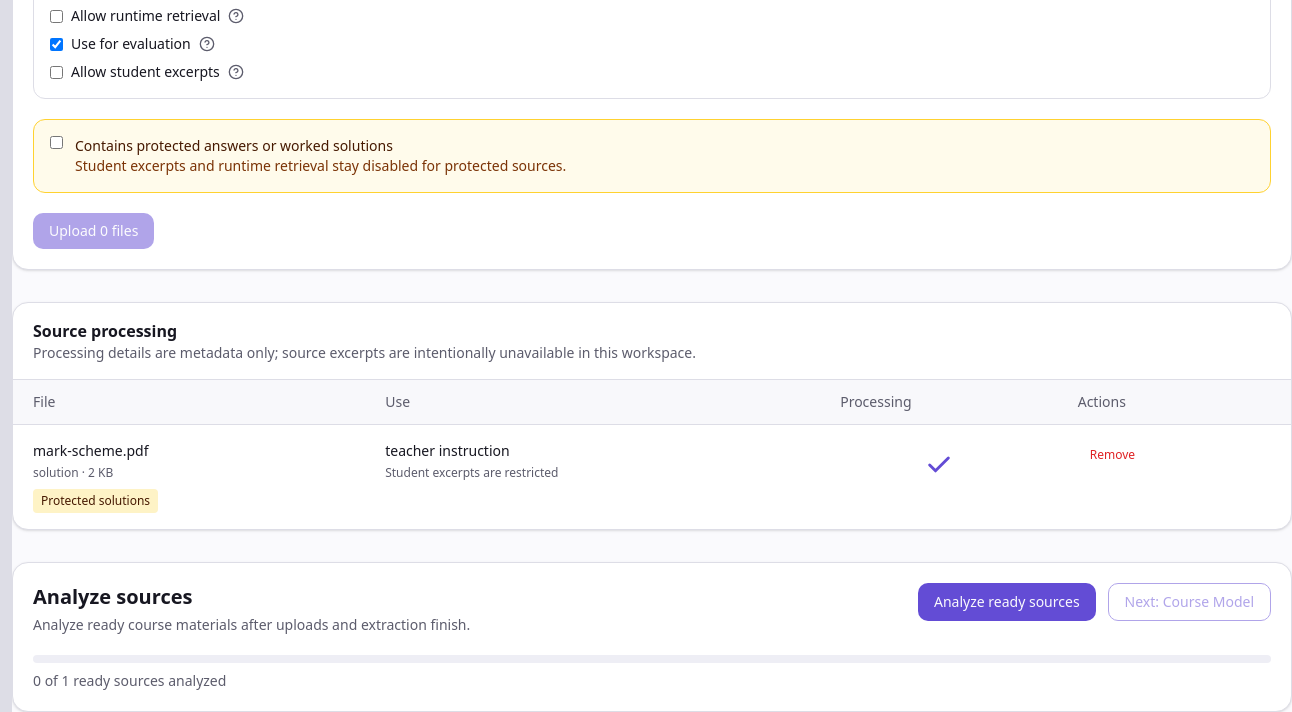
Test: SourceWorkspace › refreshes source status while bulk analysis is running so progress advances per document
(page scrolled)
Expected: the text "mark-scheme.pdf" is shown, x1=33 y1=441 x2=148 y2=460
Click the button "Analyze ready sources": (1007, 602) x1=918 y1=583 x2=1096 y2=621
(page scrolled)
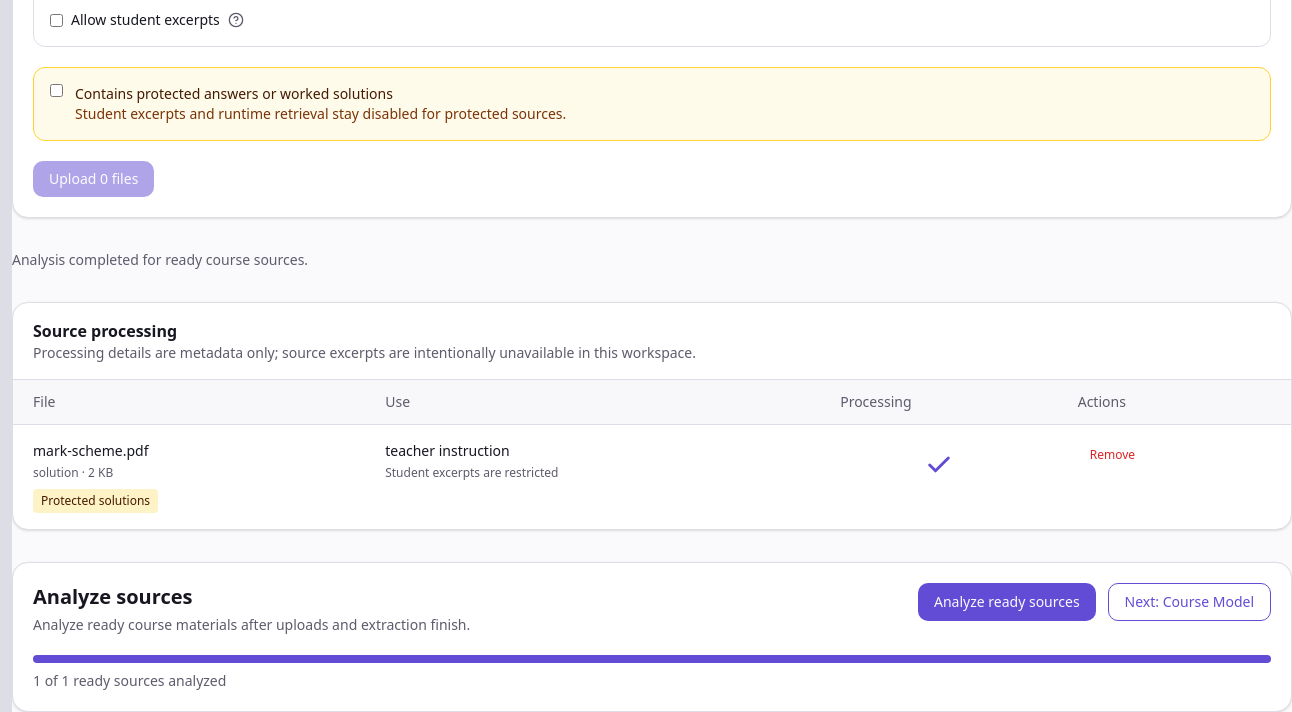
Expected: the text "1 of 1 ready sources analyzed" is shown, x1=33 y1=671 x2=226 y2=690
